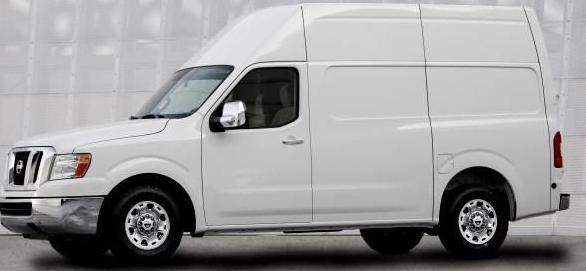front_view: (7, 147, 112, 271)
headlight: (37, 145, 100, 189)
side_glass: (203, 65, 437, 136)
